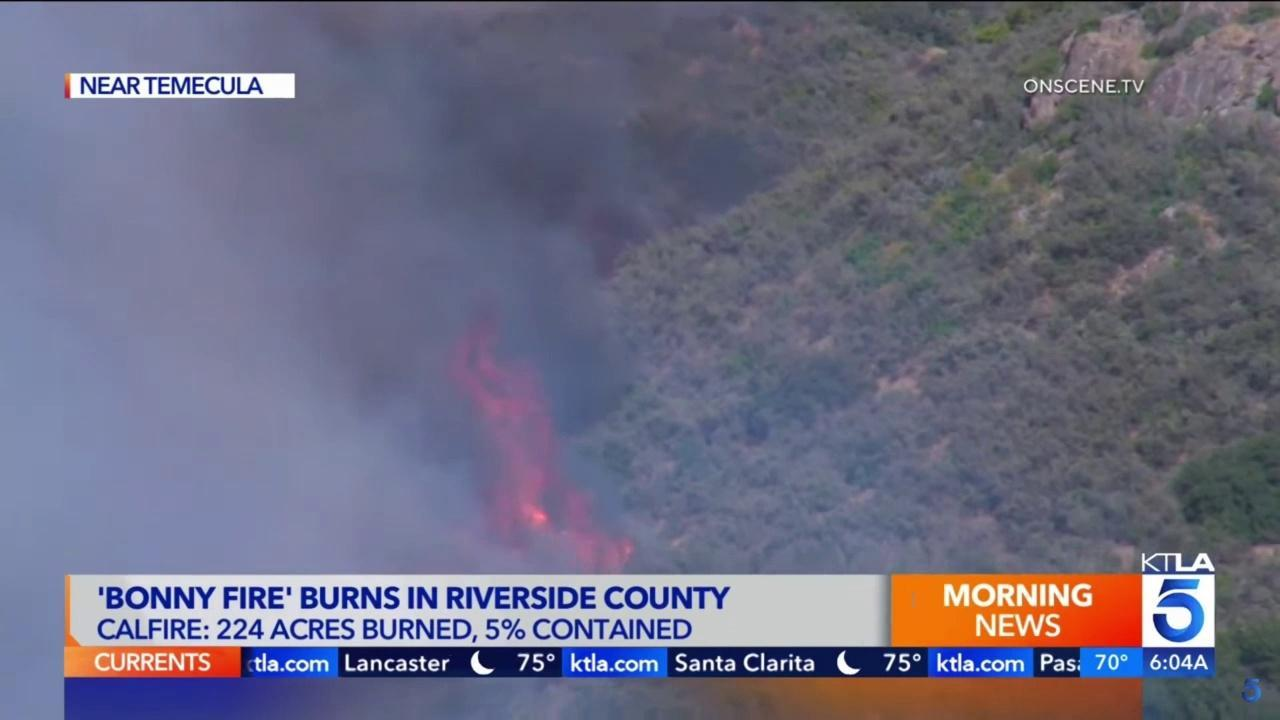fire: (431, 310, 635, 576)
smoke: (0, 2, 792, 720)
